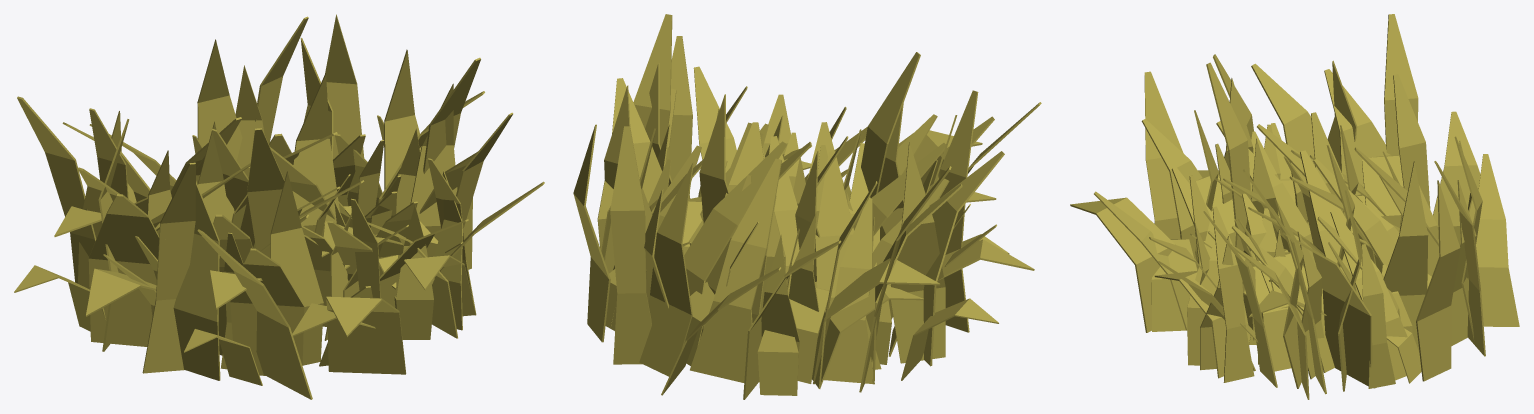
Rendered from GrassSmallCircle (2).fbx.
3 renders of one model, left to right at view 1: azimuth 30°, elevation 25°; view 2: azimuth 150°, elevation 25°; view 3: azimuth 270°, elevation 25°, orthographic. The views are drawn at different scales.
Visible parts, largest first — view 1: Grass5.009, Grass4.009, Grass2.007, Grass3.011, Grass1.012, Grass3.012, Grass5.011, Grass3.018, Grass4.014, Grass4.012, Grass3.001, Grass3.009 (+43 smaller); view 2: Grass1.002, Grass4.017, Grass3.017, Grass3.014, Grass1.013, Grass1.018, Grass1.015, Grass4.009, Grass3.001, Grass5.009, Grass4.012, Grass5.020 (+44 smaller); view 3: Grass3.001, Grass1.017, Grass5.020, Grass3.019, Grass4.008, Grass2.007, Grass1.012, Grass4.012, Grass5.009, Grass2.008, Grass5.001, Grass4.020 (+50 smaller).
Boxes of the visible parts, x1,y1,x2,y2 form: Grass5.009: [88, 194, 159, 346]; Grass4.009: [142, 162, 195, 373]; Grass2.007: [326, 296, 406, 374]; Grass3.011: [173, 181, 220, 380]; Grass1.012: [197, 229, 312, 399]; Grass3.012: [270, 171, 323, 365]; Grass5.011: [230, 248, 304, 375]; Grass3.018: [292, 73, 339, 236]; Grass4.014: [17, 96, 96, 283]; Grass4.012: [247, 128, 284, 258]; Grass3.001: [325, 14, 364, 197]; Grass3.009: [396, 205, 433, 339]; Grass1.002: [690, 158, 781, 382]; Grass4.017: [610, 126, 651, 364]; Grass3.017: [639, 162, 693, 376]; Grass3.014: [890, 142, 945, 363]; Grass1.013: [823, 198, 874, 383]; Grass1.018: [684, 141, 786, 295]; Grass1.015: [815, 151, 881, 369]; Grass4.009: [940, 90, 978, 332]; Grass3.001: [573, 124, 610, 342]; Grass5.009: [923, 151, 1004, 366]; Grass4.012: [861, 52, 920, 197]; Grass5.020: [597, 78, 661, 273]; Grass3.001: [1416, 180, 1460, 381]; Grass1.017: [1476, 154, 1519, 326]; Grass5.020: [1282, 232, 1372, 386]; Grass3.019: [1383, 161, 1428, 352]; Grass4.008: [1212, 206, 1254, 382]; Grass2.007: [1070, 197, 1175, 332]; Grass1.012: [1144, 71, 1183, 238]; Grass4.012: [1206, 62, 1251, 251]; Grass5.009: [1251, 63, 1314, 223]; Grass2.008: [1151, 239, 1197, 331]; Grass5.001: [1433, 111, 1480, 244]; Grass4.020: [1361, 244, 1395, 388].
Size of the model in its own units: 3.03 by 1.68 by 3.05.
